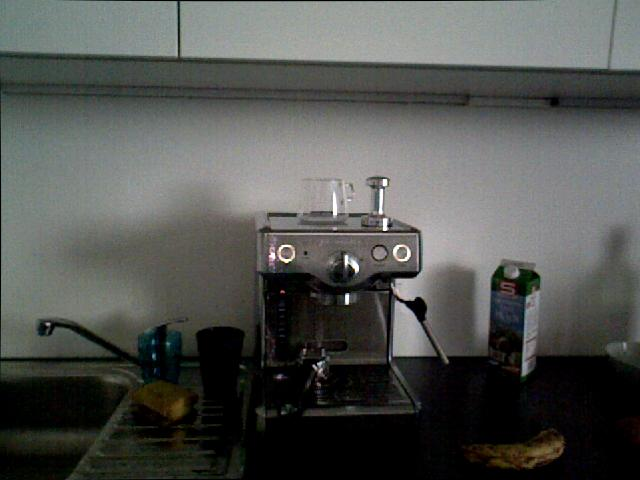bench: (486, 254, 543, 382)
bird: (603, 334, 640, 388)
couch: (0, 366, 137, 479)
handbag: (195, 325, 245, 401), (129, 321, 184, 385), (293, 175, 358, 227)
motorcycle: (451, 418, 574, 475)
